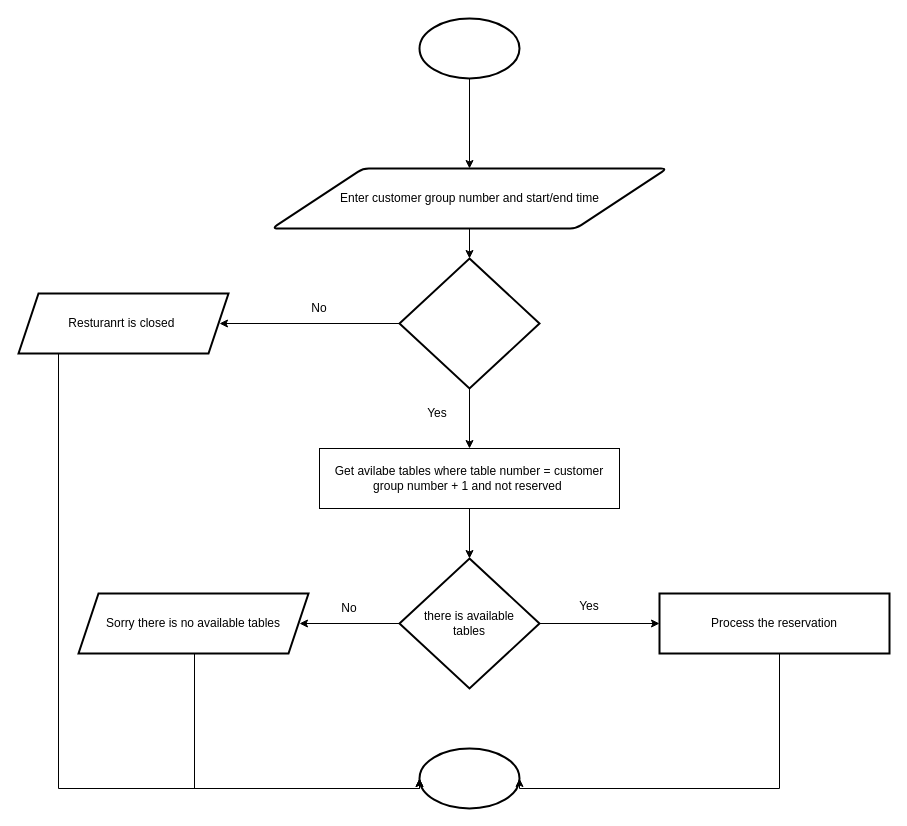
Some shapes in this 907 by 826 pixel diagram are drawn without their labels. Here are the shapes that lost their labels. From the top down, the centre of each, then its label:
the point at 469,48: Start
the point at 469,323: start/end time within working hours
the point at 469,778: End
